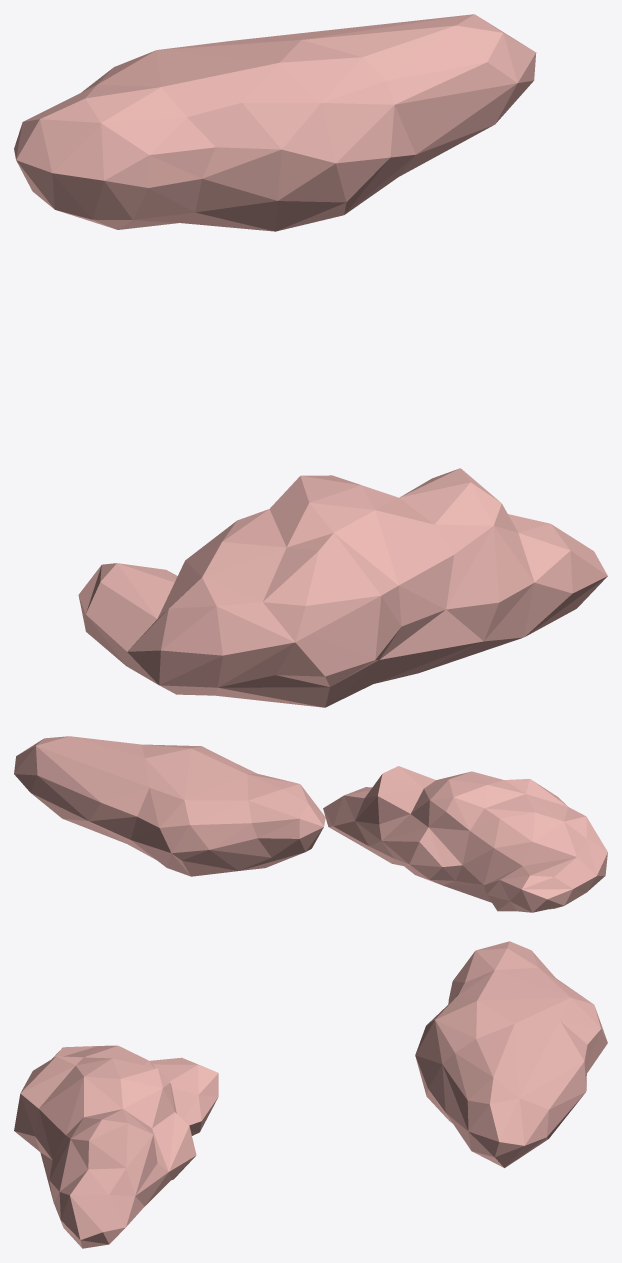
File: cloud1.glb
3 renders of one model, top to bottom at view 1: azimuth 30°, elevation 25°; view 2: azimuth 150°, elevation 25°; view 3: azimuth 270°, elevation 25°, orthographic. The views are drawn at different scales.
Visible parts, largest first — view 1: Icosphere.009, Icosphere.006; view 2: Icosphere.006, Icosphere.009; view 3: Icosphere.006, Icosphere.009.
Boxes of the visible parts, x1,y1,x2,y2 form: Icosphere.009: (78,468,607,707); Icosphere.006: (14,14,536,231); Icosphere.006: (14,736,325,876); Icosphere.009: (323,766,607,912); Icosphere.006: (415,941,607,1167); Icosphere.009: (14,1045,218,1248).
Size of the model in its own units: 2.07 by 1.07 by 2.21.
